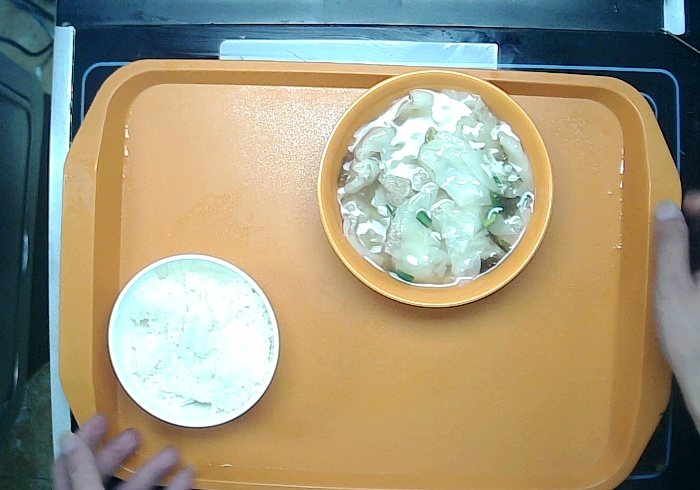NLDX-Fan_Wan: (106, 250, 284, 430)
NLDX-Hun_Tun_Wan: (316, 64, 555, 309)
